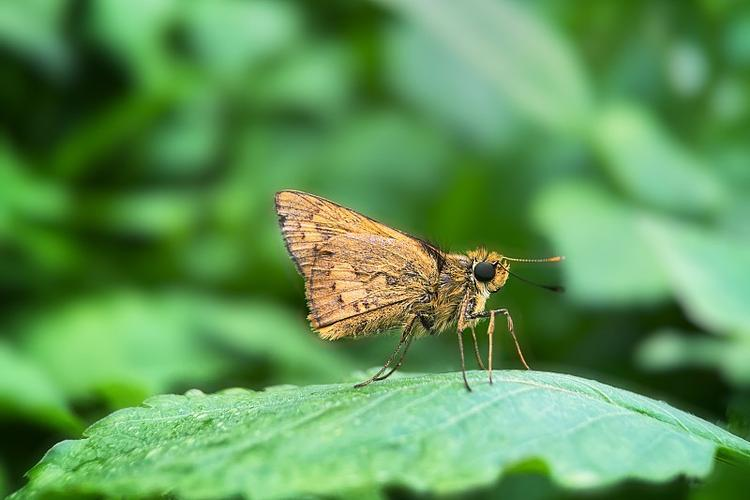Hesperiidae: (274, 188, 565, 398)
